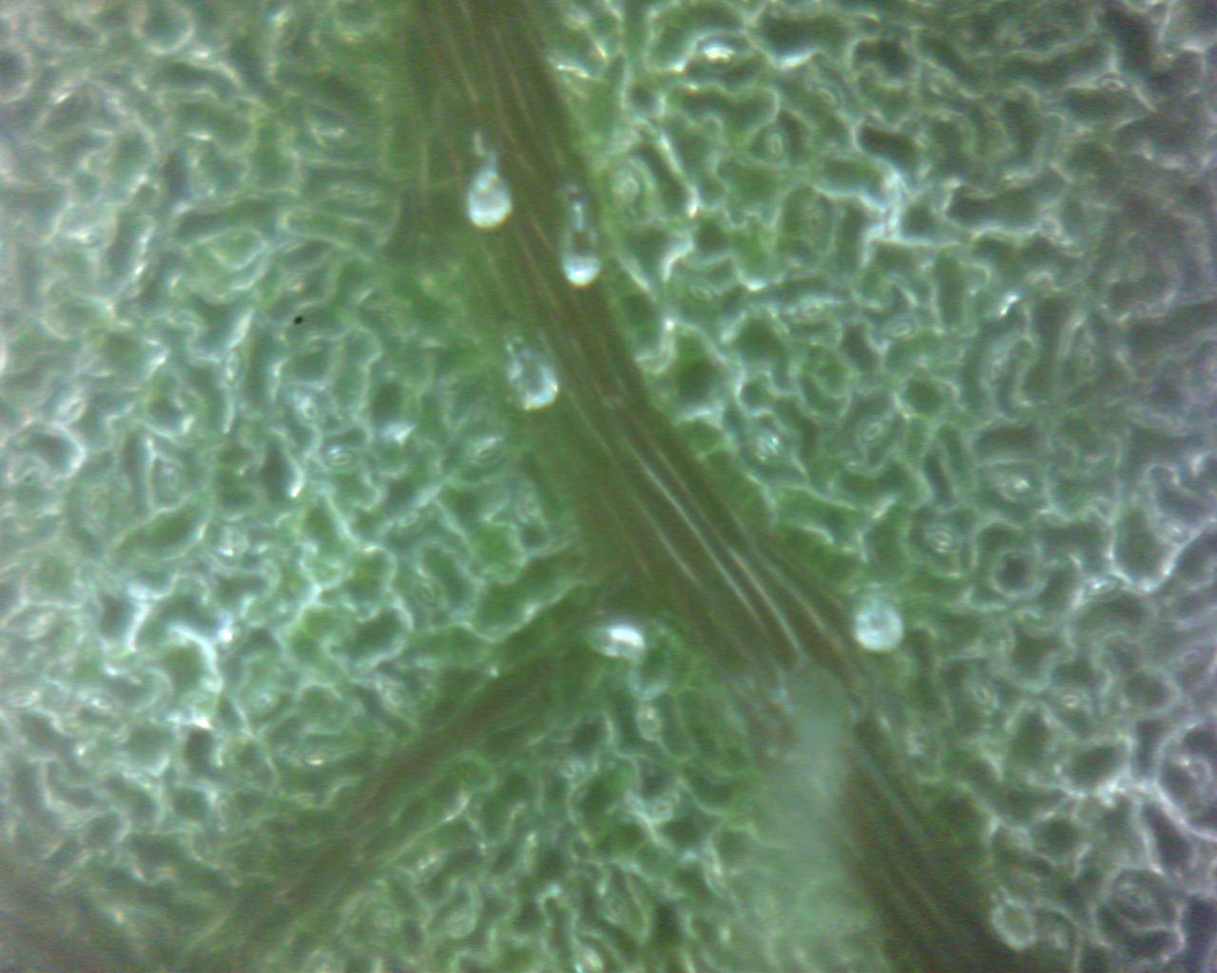stomata: (517, 486, 549, 524), (697, 45, 736, 74), (271, 12, 301, 47), (224, 347, 249, 389), (1085, 575, 1124, 601), (1074, 346, 1102, 382), (315, 121, 352, 148), (191, 165, 217, 202), (469, 438, 501, 467), (1094, 74, 1131, 99), (415, 575, 444, 606), (801, 205, 826, 240), (1054, 688, 1089, 713), (1122, 885, 1153, 913), (638, 708, 664, 740), (215, 793, 238, 829), (686, 281, 719, 306), (752, 434, 782, 460), (969, 680, 995, 710), (794, 298, 829, 320), (1160, 518, 1187, 546), (103, 93, 132, 119), (4, 690, 37, 712), (125, 770, 157, 792), (1177, 647, 1207, 670), (328, 447, 358, 470), (927, 528, 957, 551), (709, 863, 730, 894), (766, 133, 789, 161), (1043, 213, 1065, 242), (375, 901, 395, 932), (648, 798, 677, 819), (987, 355, 1006, 387), (299, 396, 319, 426), (606, 892, 626, 922), (61, 395, 84, 421), (1006, 825, 1029, 851), (813, 86, 839, 109), (886, 321, 917, 340), (87, 489, 107, 518), (395, 510, 424, 530), (1144, 410, 1175, 428), (635, 118, 659, 141), (860, 420, 883, 444), (386, 687, 408, 711), (77, 230, 103, 249), (885, 205, 900, 237), (252, 692, 277, 711), (451, 911, 470, 935), (89, 693, 113, 712), (164, 465, 179, 495), (128, 585, 154, 601), (29, 615, 52, 633)
